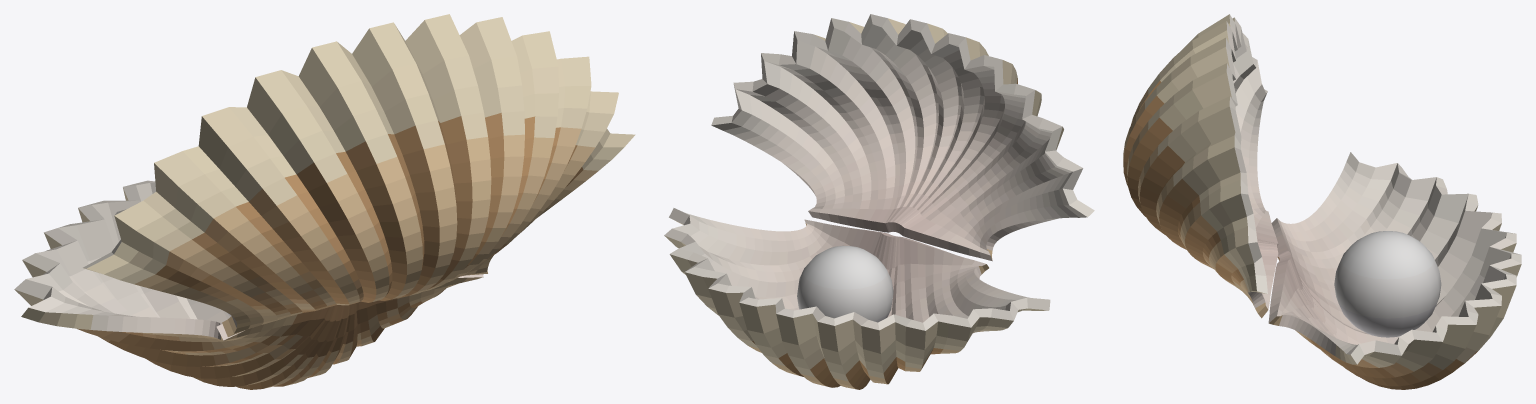
File: Clam_Open.glb
3 renders of one model, left to right at view 1: azimuth 30°, elevation 25°; view 2: azimuth 150°, elevation 25°; view 3: azimuth 270°, elevation 25°, orthographic. The views are drawn at different scales.
Visible parts, largest first — view 1: Clam_Open; view 2: Clam_Open; view 3: Clam_Open.
Boxes of the visible parts, x1=… form: Clam_Open: x1=14, y1=14, x2=635, y2=389; Clam_Open: x1=664, y1=14, x2=1094, y2=389; Clam_Open: x1=1123, y1=14, x2=1521, y2=389.
Bounding box in the file's own units: 1.99 × 1.51 × 1.64.
